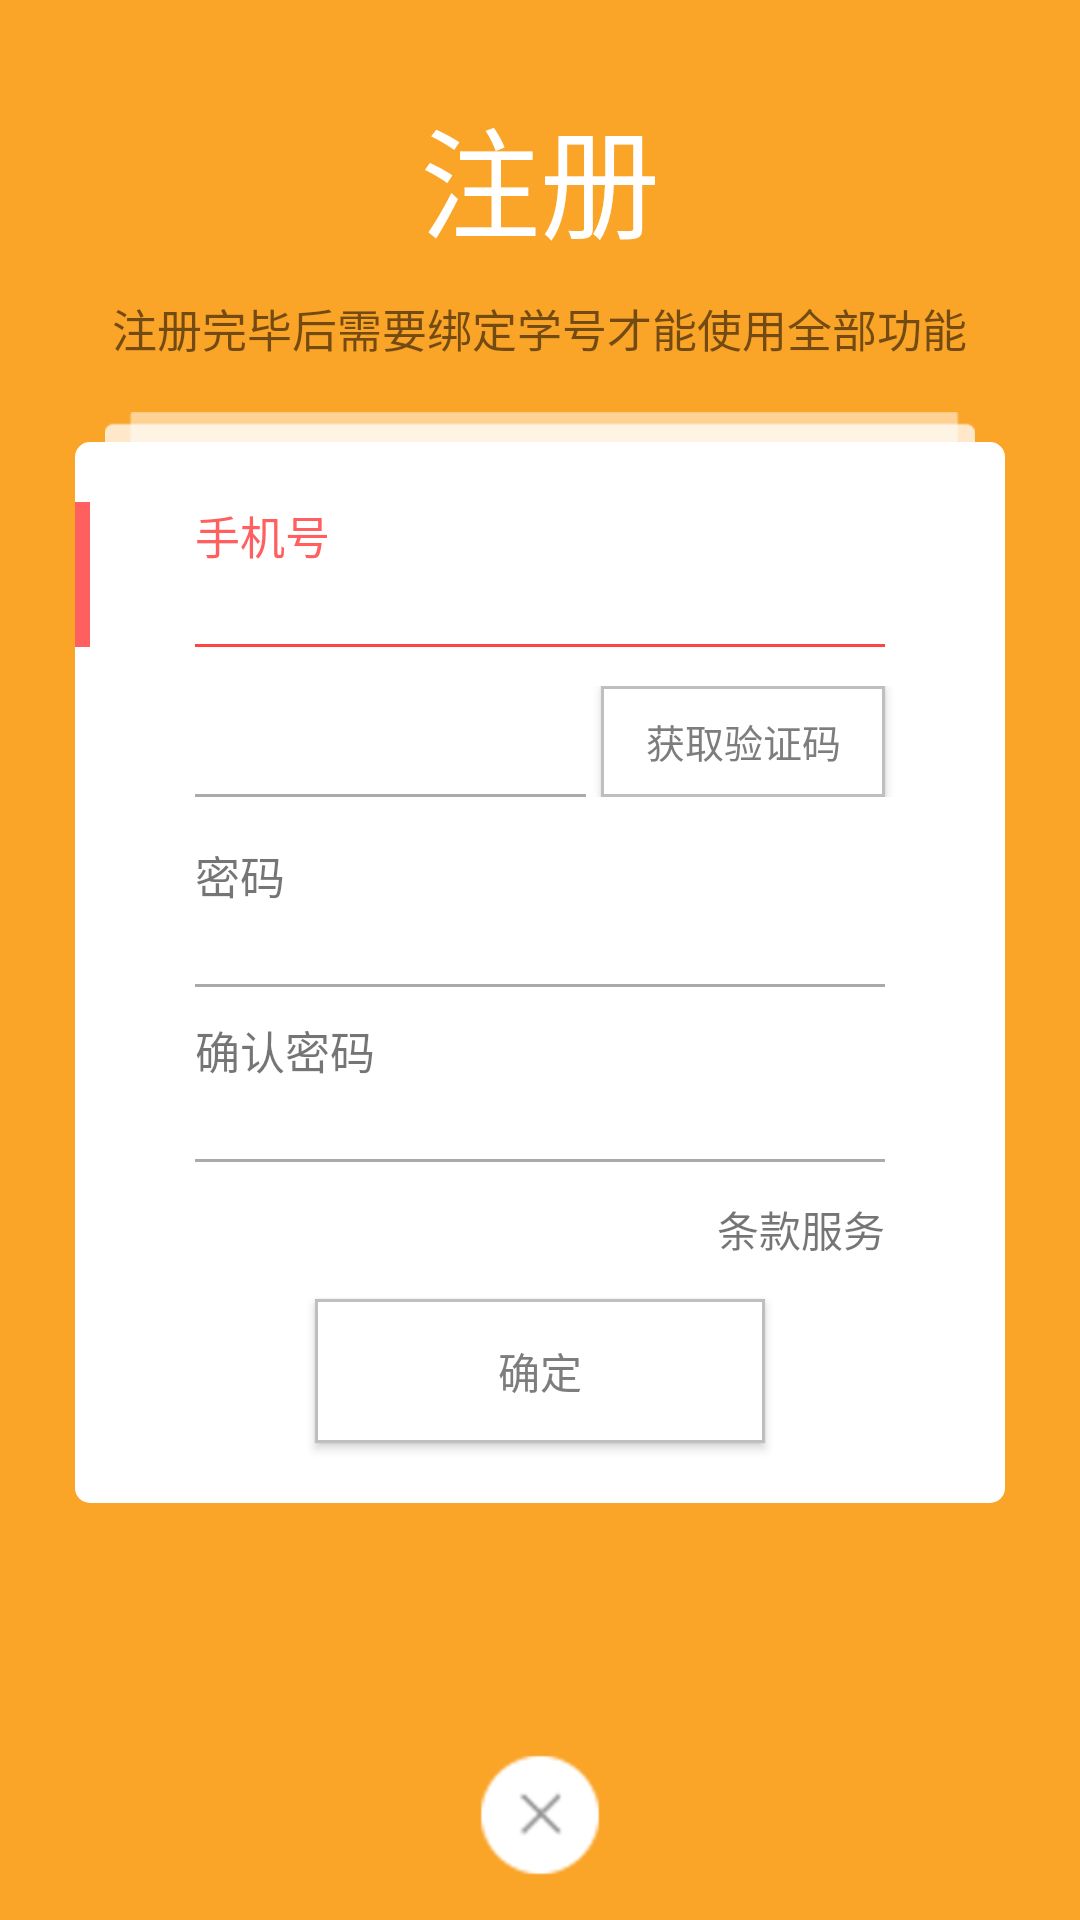

Named icons in this screenshot (1080w x 1920h) and their centers, (x=x, y=y):
register close: (x=540, y=1815)
